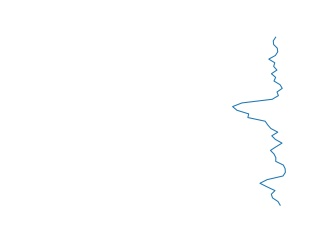interdistributaryEstuary: (228, 37, 289, 206)
